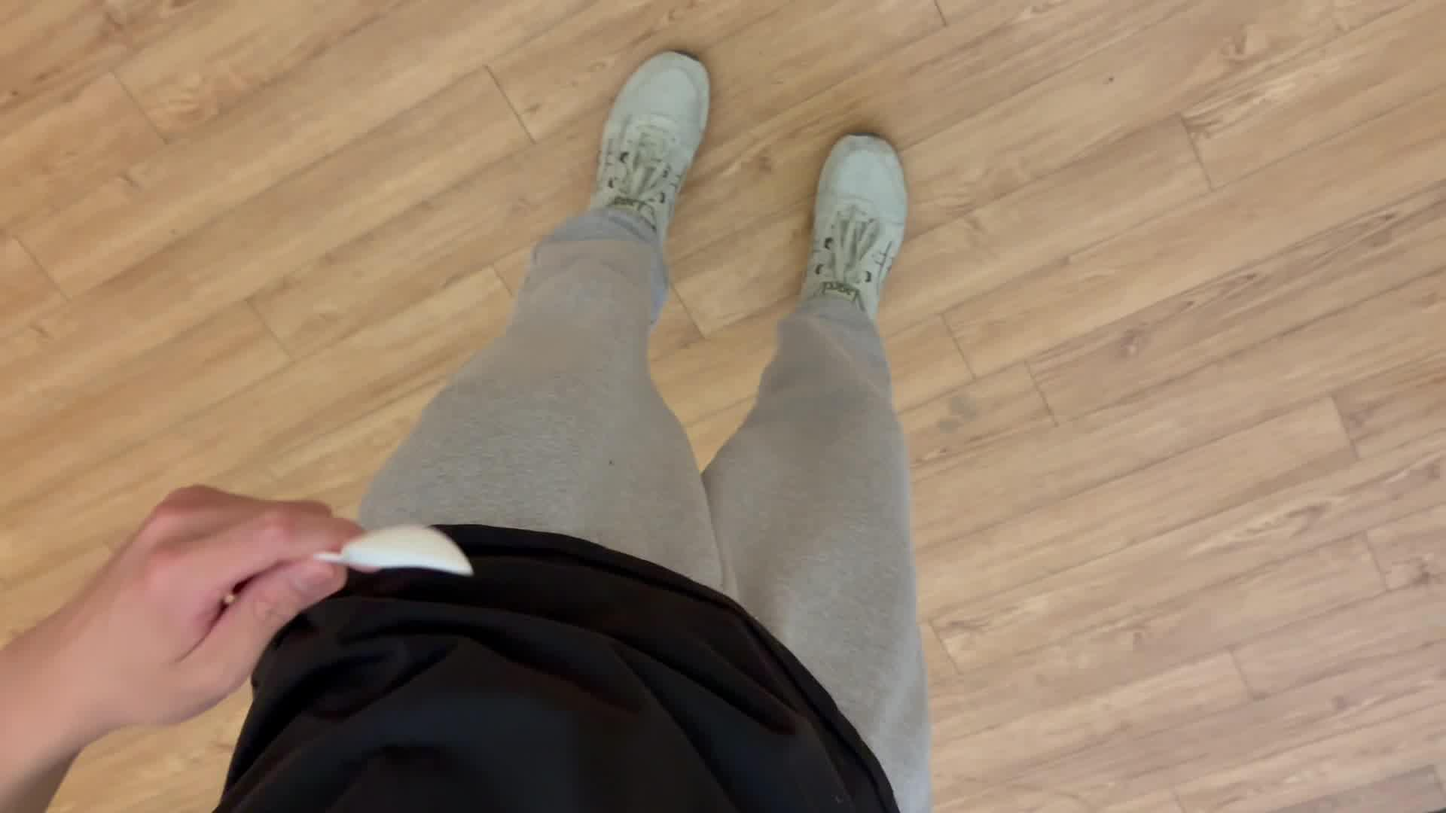utensil: (233, 519, 478, 603)
